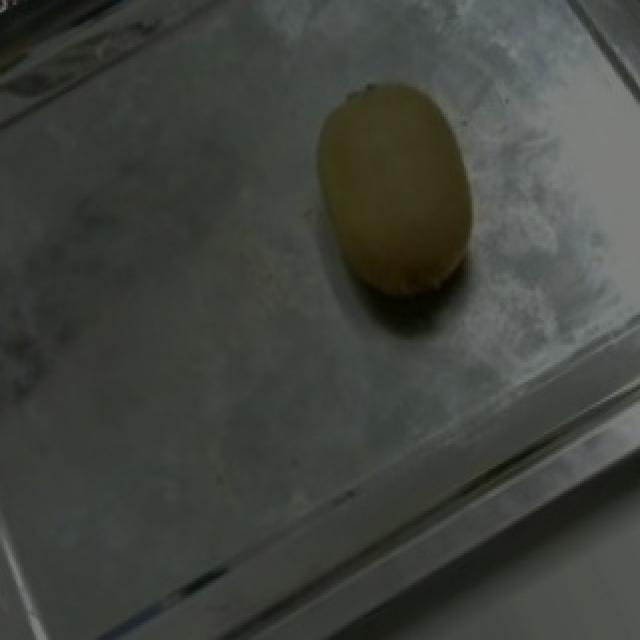Fruit: (272, 50, 514, 347)
